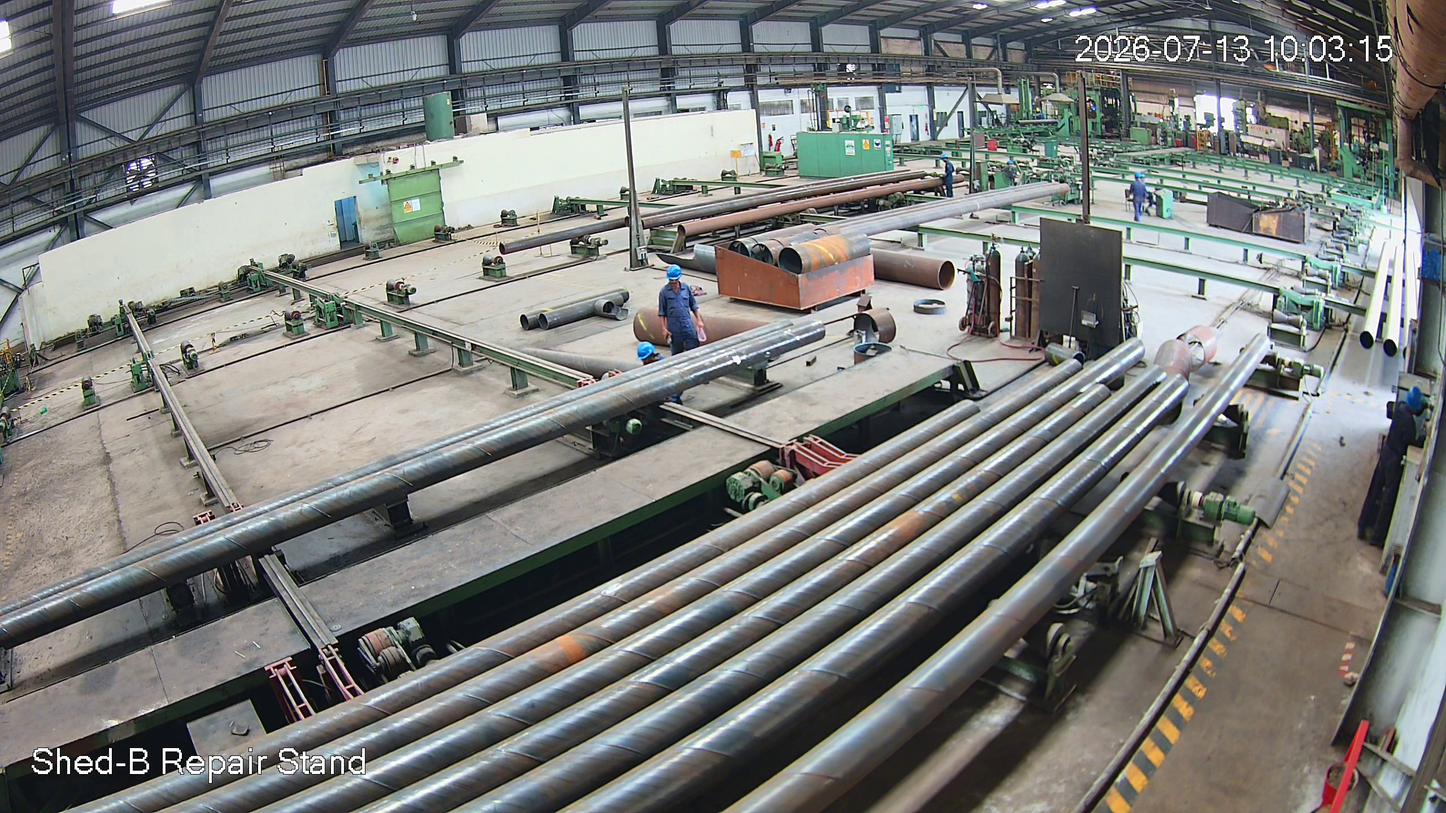Helmet: (1402, 383, 1428, 418), (664, 263, 686, 294)
Person: (1358, 386, 1428, 545), (656, 265, 707, 364)
